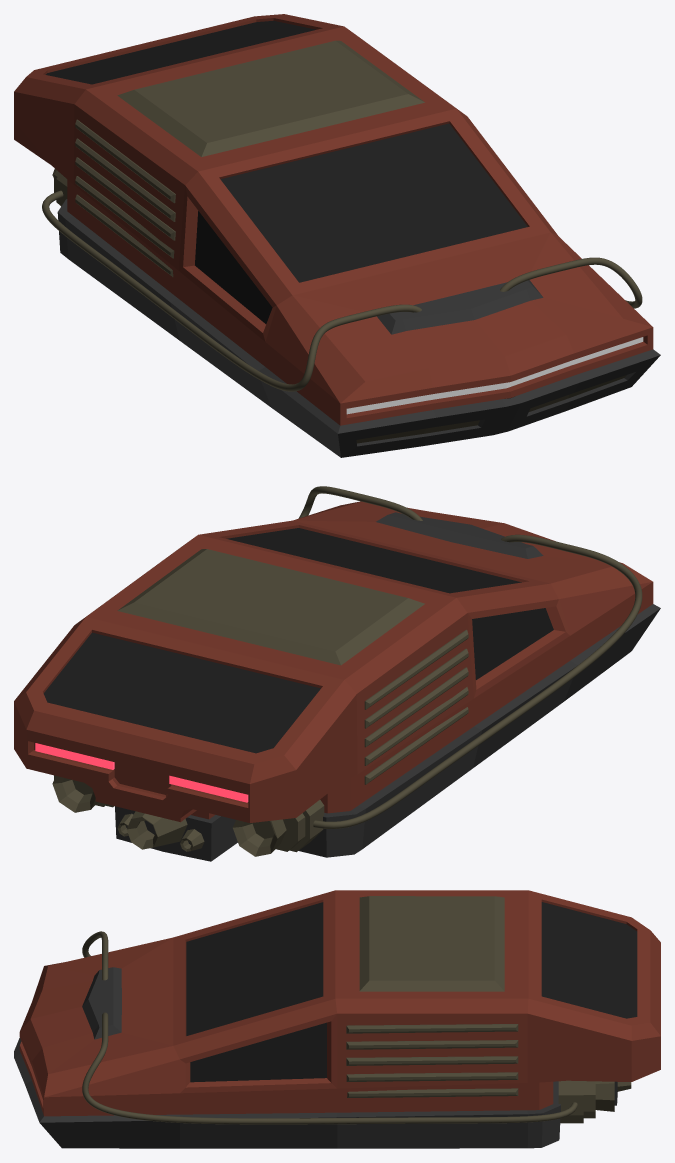
File: car3.fbx
3 renders of one model, top to bottom at view 1: azimuth 30°, elevation 25°; view 2: azimuth 150°, elevation 25°; view 3: azimuth 270°, elevation 25°, orthographic. The views are drawn at different scales.
Parts seen in each view (by area): view 1: Cube.001; view 2: Cube.001; view 3: Cube.001.
Boxes of the visible parts, x1,y1,x2,y2 form: Cube.001: (14,14,660,457); Cube.001: (14,486,660,861); Cube.001: (14,890,660,1148).
Size of the model in its own units: 131 by 62.97 by 245.
